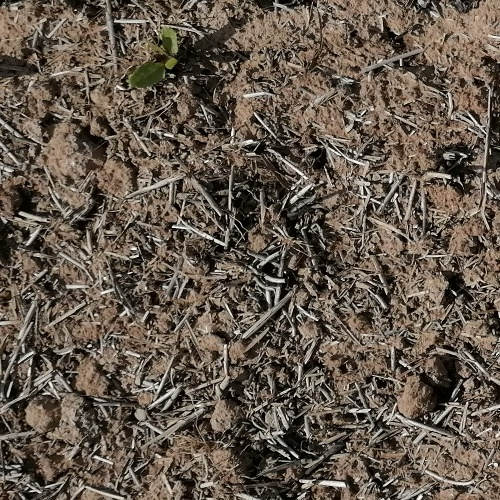beet: (128, 26, 180, 88)
